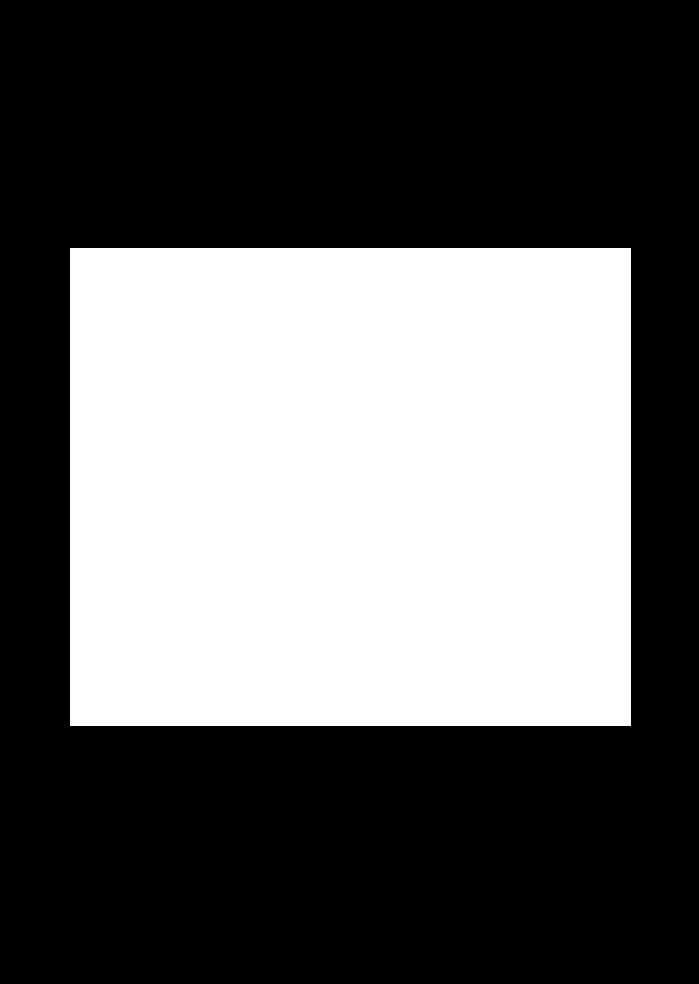table: (70, 248, 630, 725)
